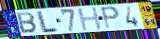4: (125, 5, 141, 28)
7: (60, 9, 77, 33)
B: (16, 12, 39, 34)
H: (77, 6, 104, 32)
L: (37, 10, 59, 34)
P: (99, 6, 121, 31)
